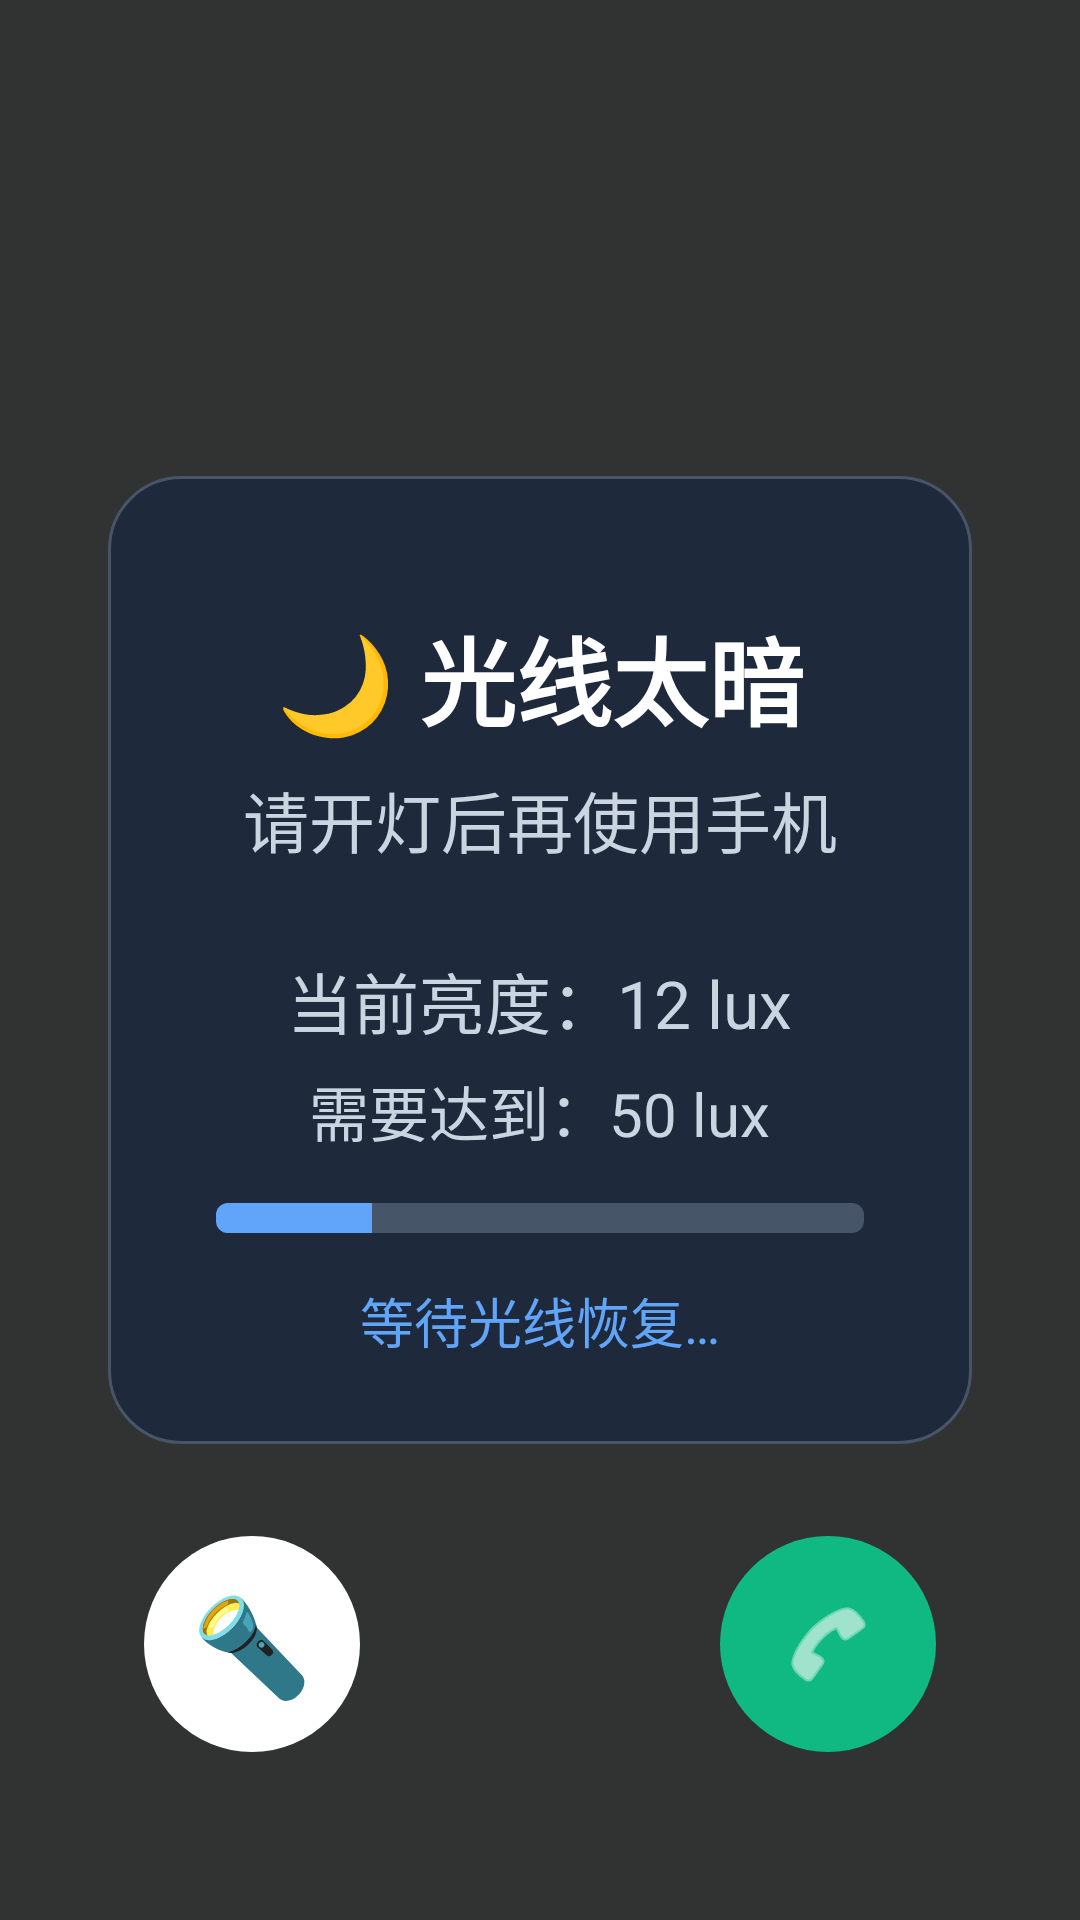

Screen size 1080px×1920px. Icon name, then its box in pixels as (x1, y1, x2, y2):
紧急电话: (791, 1607, 866, 1682)
